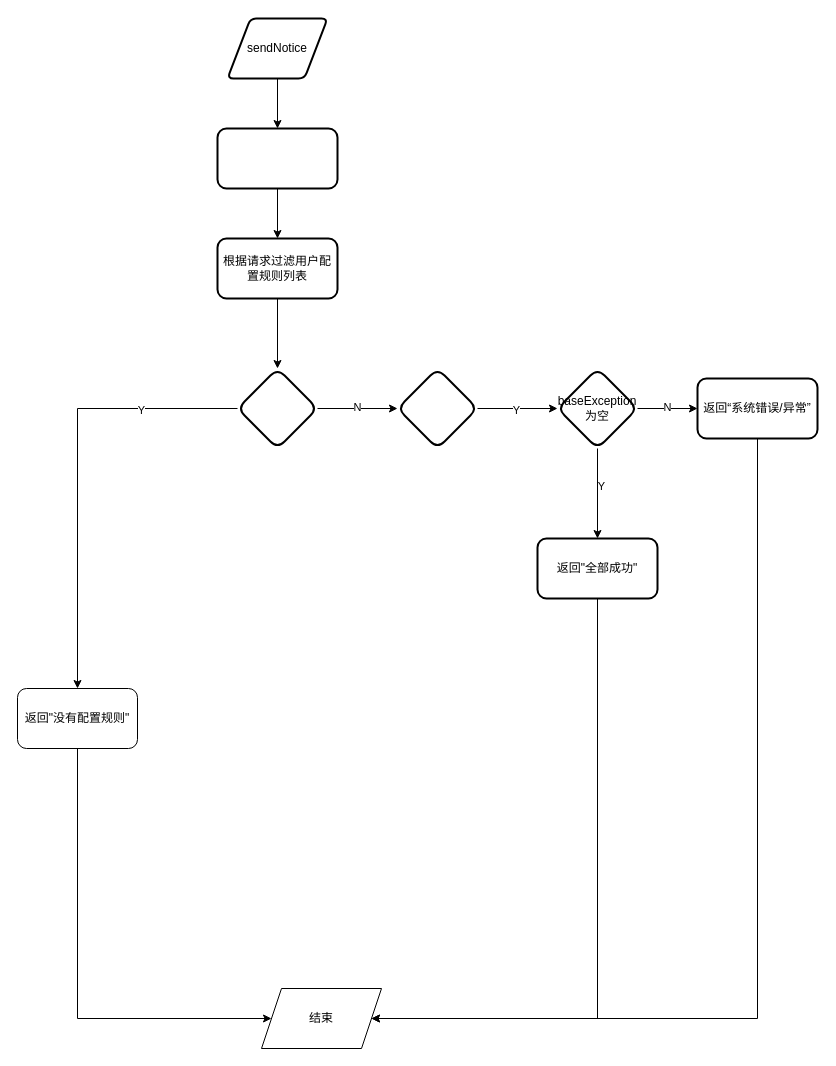
The diagram is 836 pixels wide and 1066 high, and some of its shapes have lost their labels. Here are the shapes that lost their labels. From the top down, the box of each, then its label:
(216, 127, 338, 189): 获得用户配置规则列表
(236, 367, 318, 449): 规则列表为空
(396, 367, 478, 449): 规则列表遍历完成
